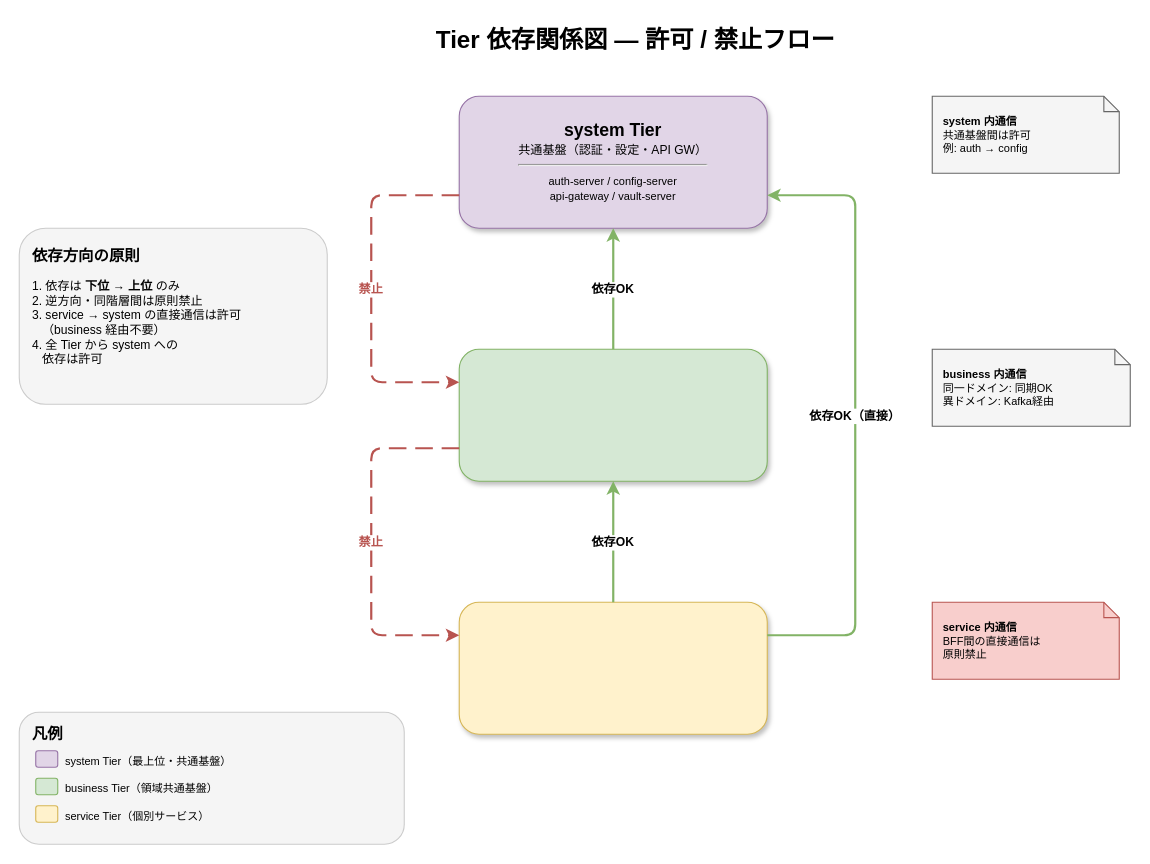
Image size: 1150x864. Some labels were removed from this diagram. Each missing label, with the centre of its shape:
business Tier 領域共通基盤（タスク管理等） taskmanagement 領域固有の共通サーバー: point (614, 416)
service Tier 個別業務サービス task / board BFF（React / Flutter）: point (614, 669)
